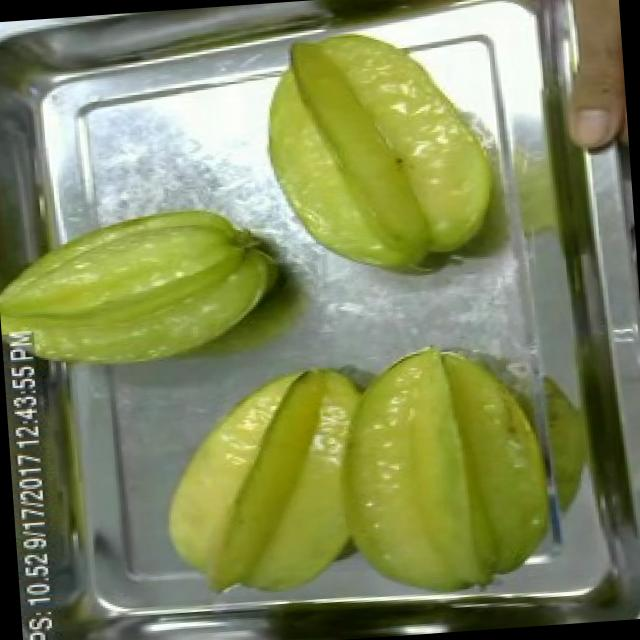fruit: (242, 7, 510, 296), (314, 323, 575, 608), (144, 348, 404, 612), (0, 188, 304, 392), (522, 0, 629, 164)
